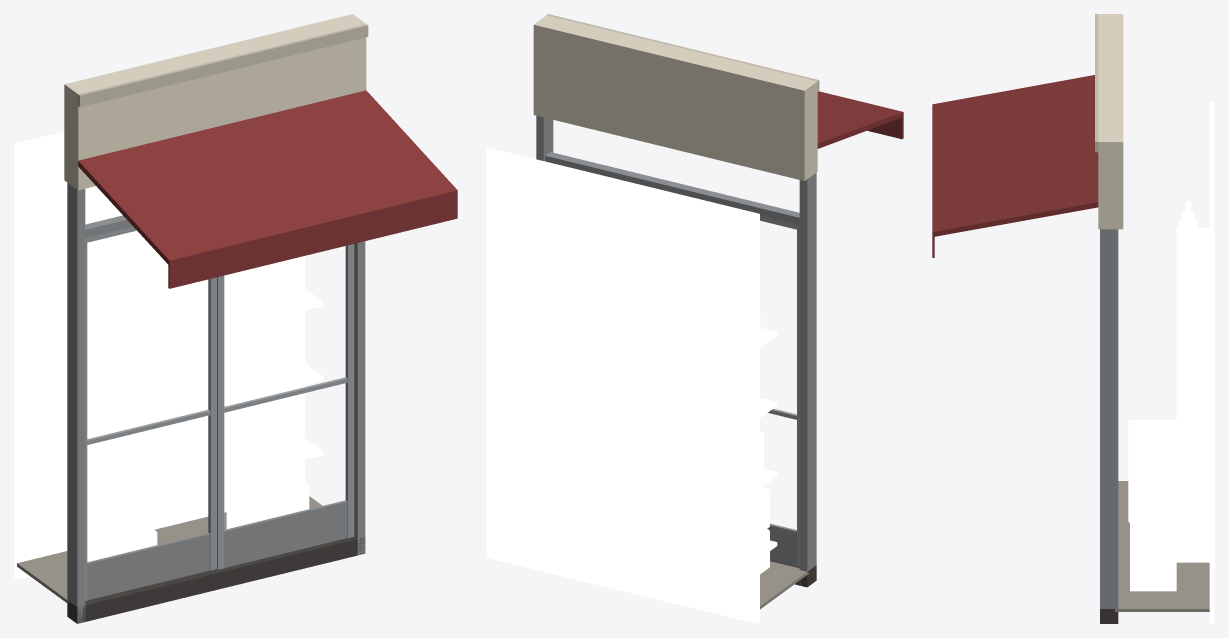
File: building_bay_shopfront_01.glb
The picture shows the model from 3 angles, left to right: view 1: azimuth 30°, elevation 25°; view 2: azimuth 150°, elevation 25°; view 3: azimuth 270°, elevation 25°; orthographic projection. The views are drawn at different scales.
Visible parts, largest first — view 1: building_bay_shopfront_01; view 2: building_bay_shopfront_01; view 3: building_bay_shopfront_01.
Part boxes in pixels (x1,y1,x2,y2): building_bay_shopfront_01: (14,14,457,623); building_bay_shopfront_01: (486,14,903,623); building_bay_shopfront_01: (932,14,1214,623).
Bounding box in the file's own units: 1.82 × 3.2 × 1.7.
